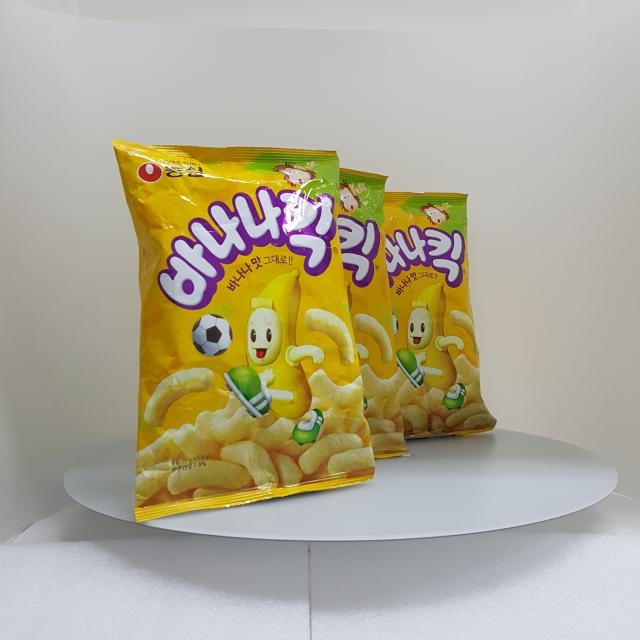-75G: (111, 138, 376, 523), (360, 193, 498, 438)
